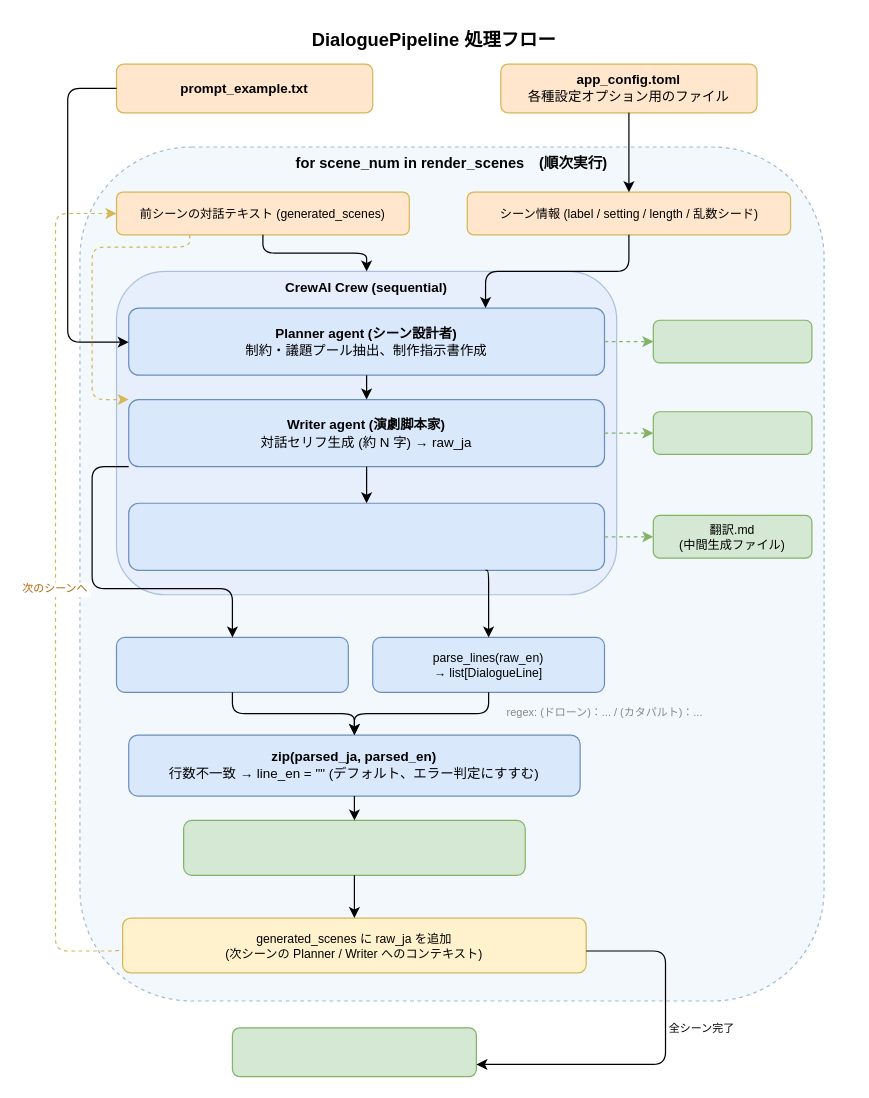
The diagram is 869 pixels wide and 1098 high, and some of its shapes have lost their labels. The shapes that lost their labels are listed below. From the top down, each one's centre as x and y in pixels, then its label:
At (732,341): "指示書.md (中間生成ファイル)".
At (732,432): "セリフ.md (中間生成ファイル)".
At (366,536): "Translator agent (翻訳者) 日英翻訳 → raw_en (行数を原文と一致)".
At (231,664): "parse_lines(raw_ja) → list[DialogueLine]".
At (353,847): "scene_N.tsv speaker | line | line_en".
At (353,1052): "list[SceneResult]".
